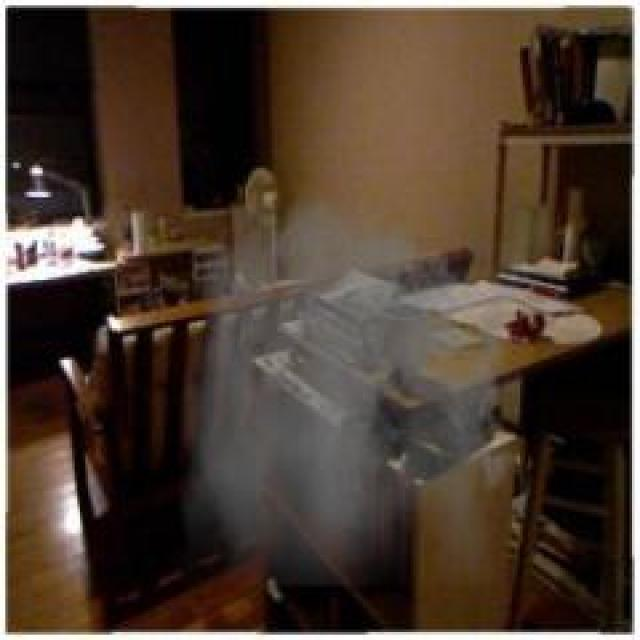Smoke: (162, 192, 515, 594)
